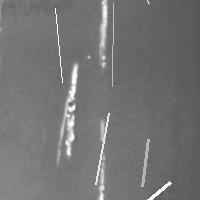scratches: (52, 61, 80, 158), (88, 177, 175, 200), (90, 108, 113, 189), (50, 3, 67, 87), (93, 119, 109, 199), (94, 1, 111, 70), (107, 0, 118, 91), (137, 134, 153, 191), (117, 0, 154, 8)
